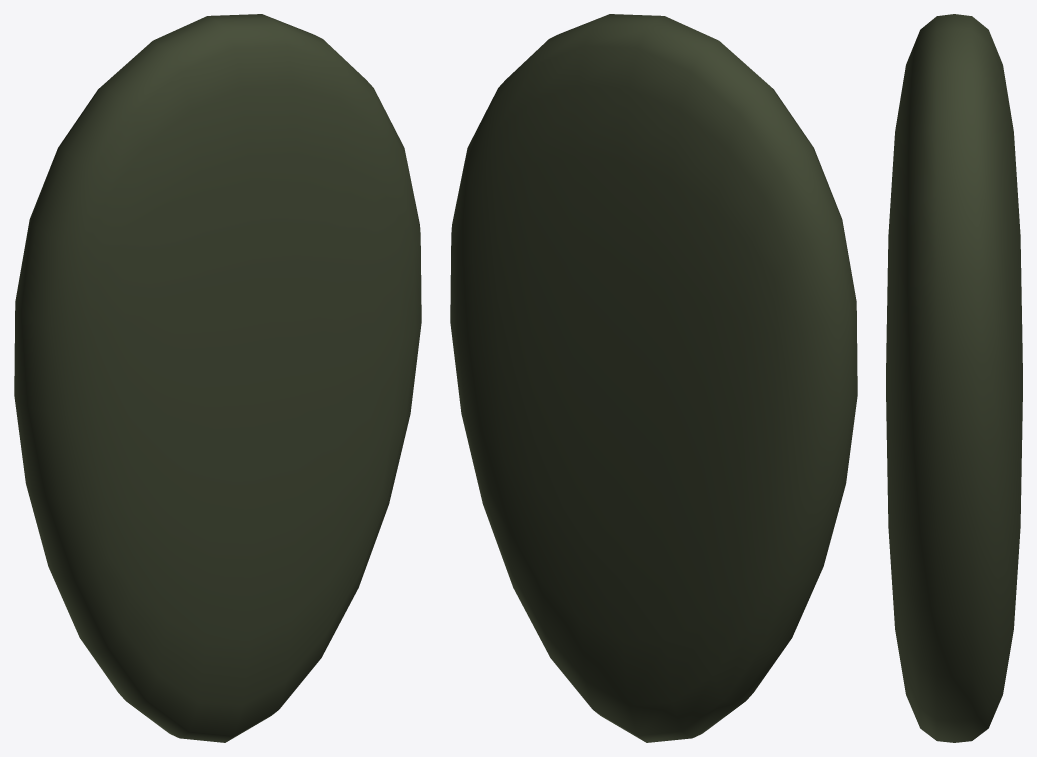
File: Pumkin_seed.fbx
3 views of the same model, side by side, from view 1: azimuth 30°, elevation 25°; view 2: azimuth 150°, elevation 25°; view 3: azimuth 270°, elevation 25° (orthographic).
Visible parts, largest first — view 1: Cube; view 2: Cube; view 3: Cube.
Part boxes in pixels (x1,y1,x2,y2): Cube: [14, 14, 421, 742]; Cube: [450, 14, 857, 742]; Cube: [886, 14, 1022, 742].
Size of the model in its own units: 78.15 by 136 by 23.89.
